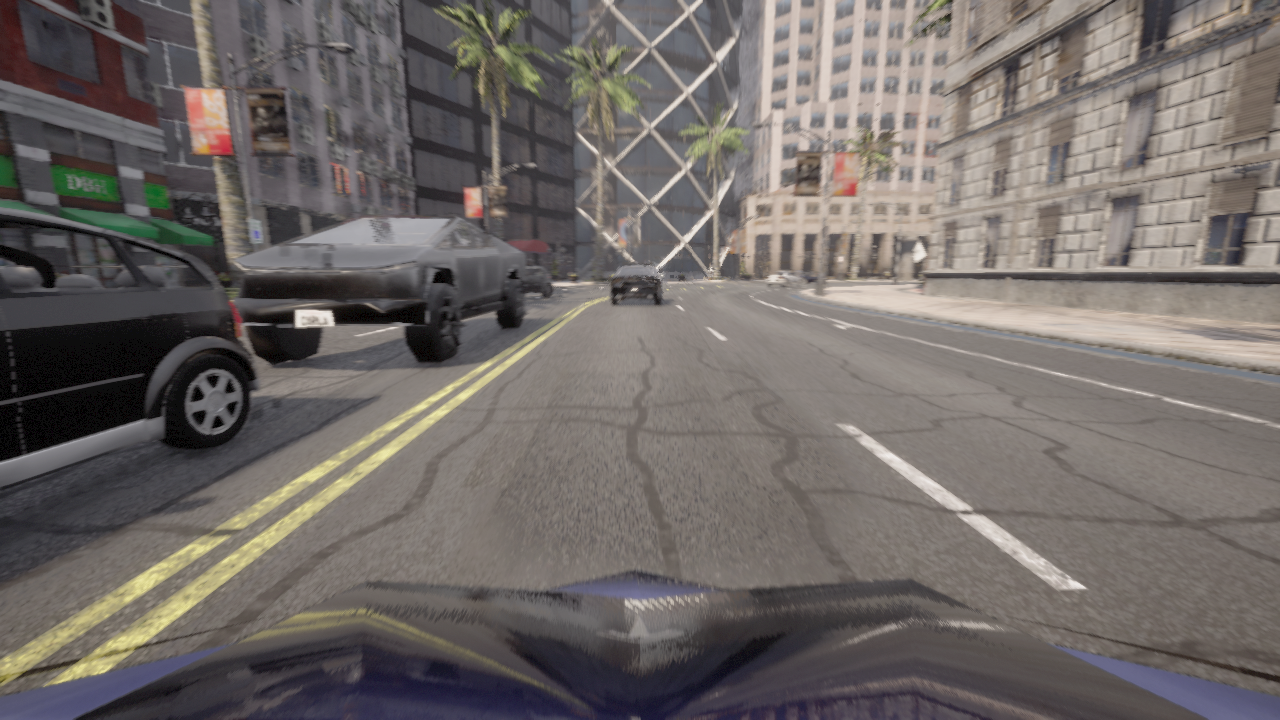cyclist: (0, 569, 1279, 719), (233, 216, 526, 365), (610, 263, 663, 304), (521, 264, 552, 297), (765, 271, 801, 287), (793, 271, 824, 284)
